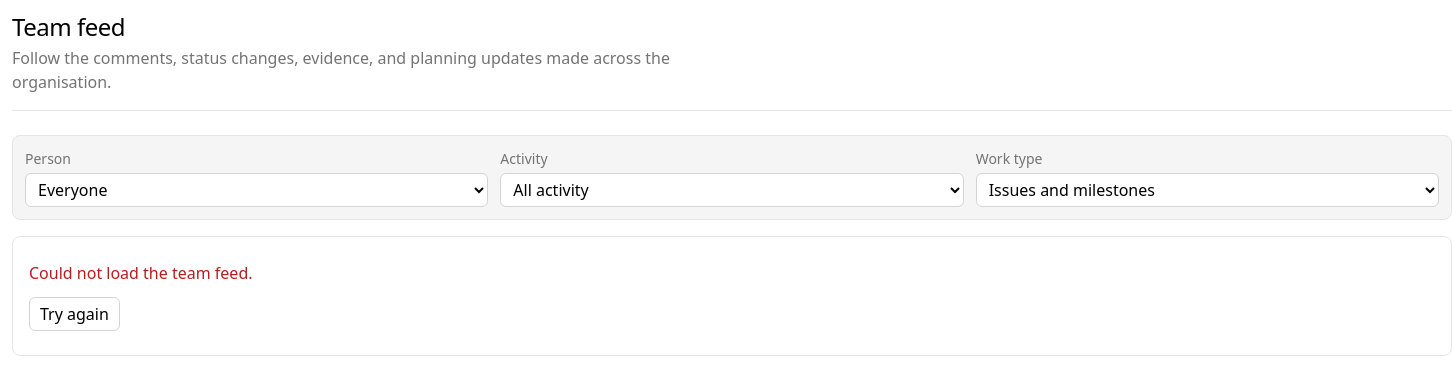
it: TeamFeed states › reports a failed load instead of claiming the feed is empty
The image size is (1452, 387).
Expected: the message reads "Could not load the team feed.", left=29, top=262, right=252, bottom=284
Expected: the text "Nothing here yet" is not shown
Step 1. Click the button "Try again" → x=74, y=314, box left=29, top=297, right=120, bottom=331
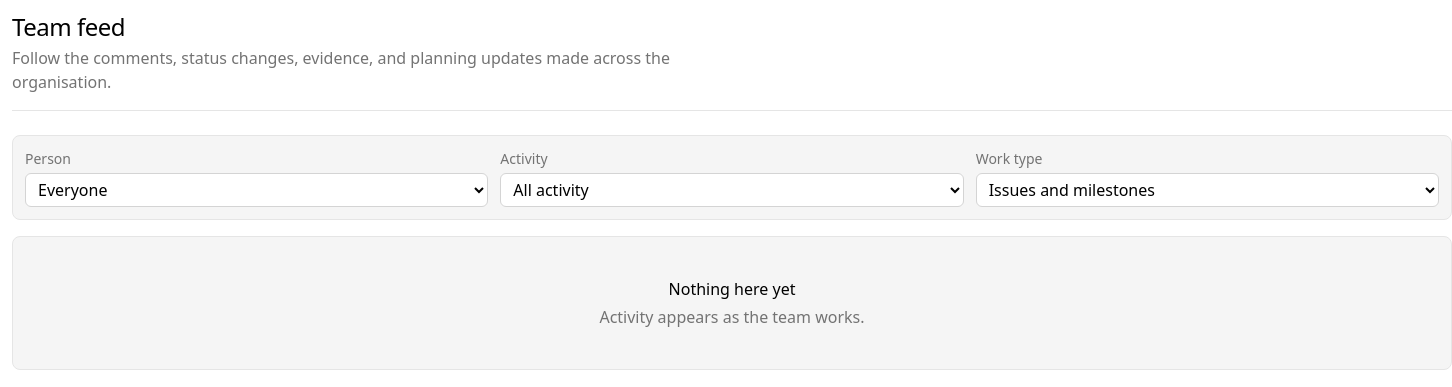
Now the text "Nothing here yet" is shown, box left=669, top=278, right=796, bottom=300
